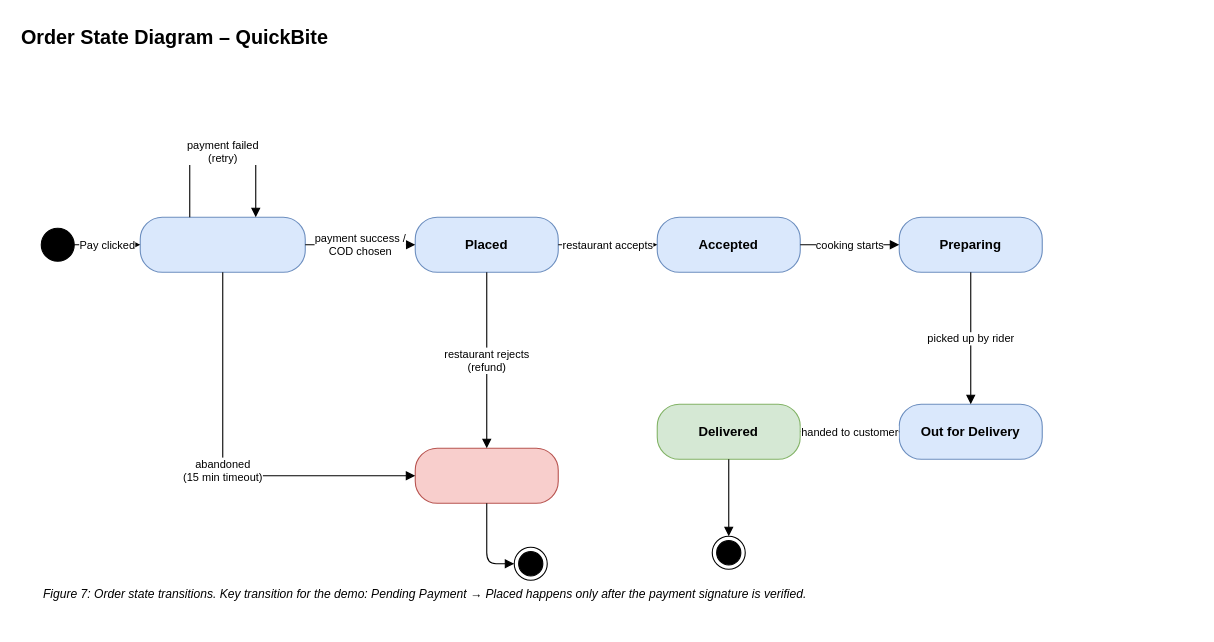
The diagram is 1214 pixels wide and 642 high, and some of its shapes have lost their labels. The shapes that lost their labels are listed below. From the top down, each one's centre as x and y in pixels, then its label:
At point (222, 244): "Pending Payment".
At point (486, 475): "Cancelled".
